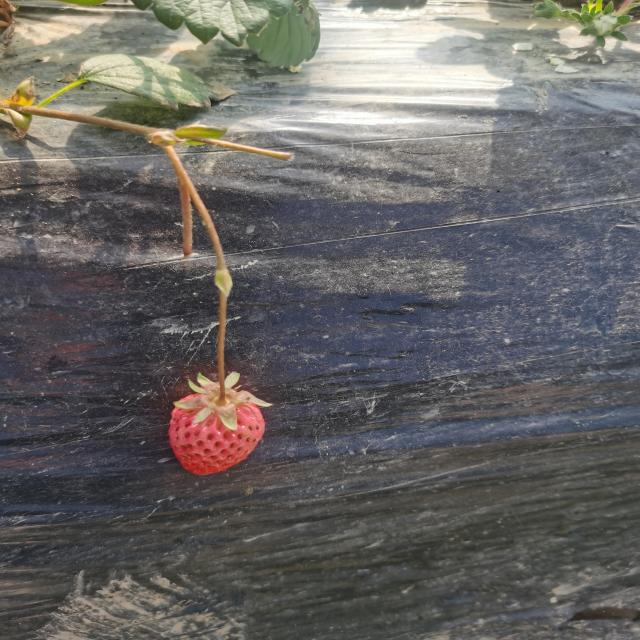stem: (218, 337, 226, 403)
strawberry: (169, 388, 265, 475)
